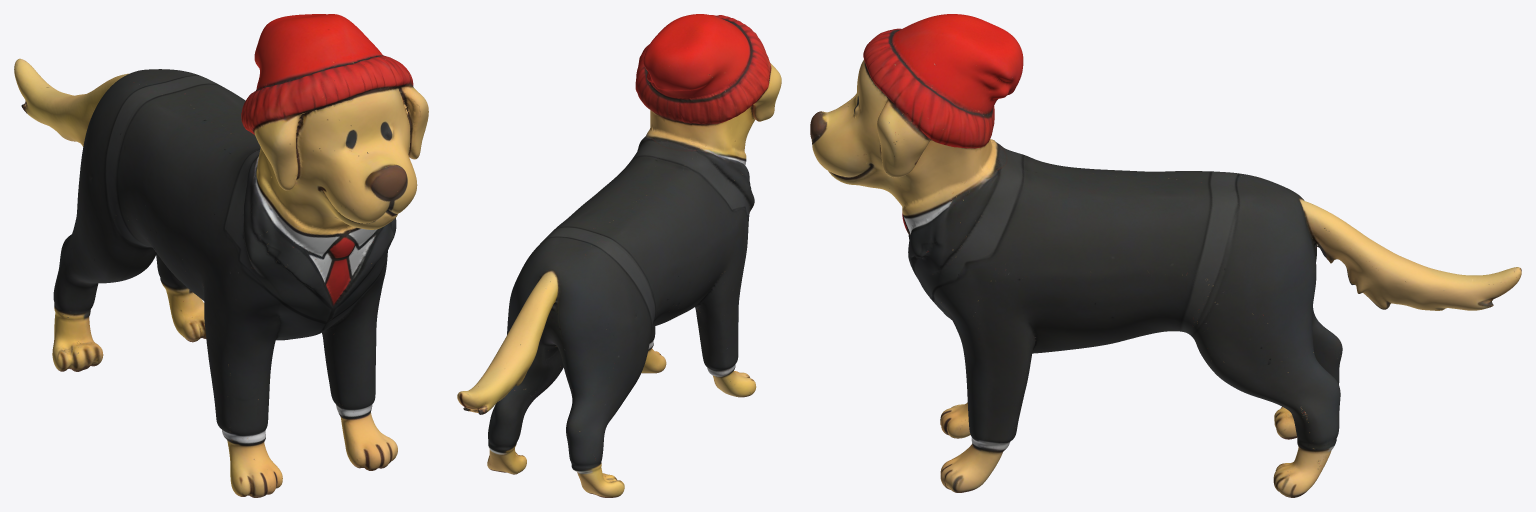
File: pet_dog_hat_suit_stand.glb
3 views of the same model, side by side, from view 1: azimuth 30°, elevation 25°; view 2: azimuth 150°, elevation 25°; view 3: azimuth 270°, elevation 25° (orthographic). The views are drawn at different scales.
Size of the model in its own units: 0.5279 by 1.37 by 2.
Materials: 1 (1 with a texture image).
